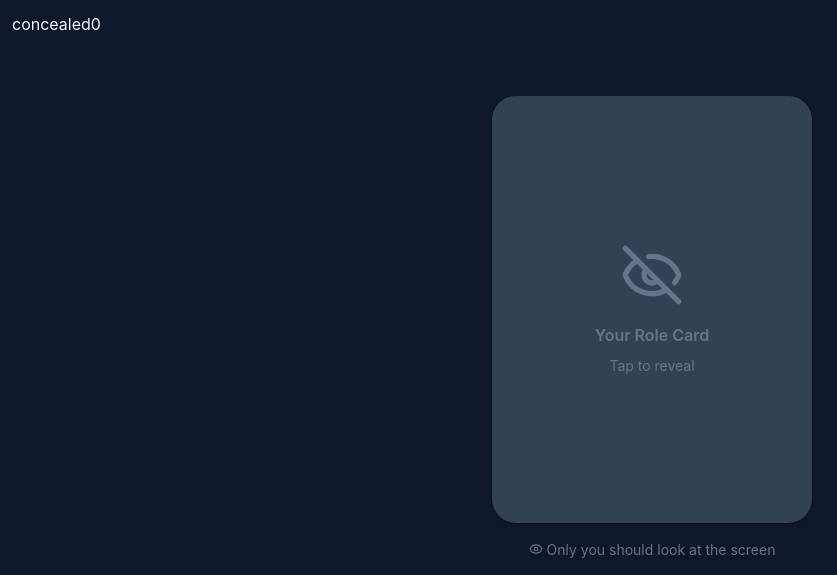
Test: RoleCard tap flow › ignores a quick second tap right after the reveal
Later steps or results of the test are not shown.
Click the button "Your Role Card Tap to reveal": (652, 309) [492,96,812,523]
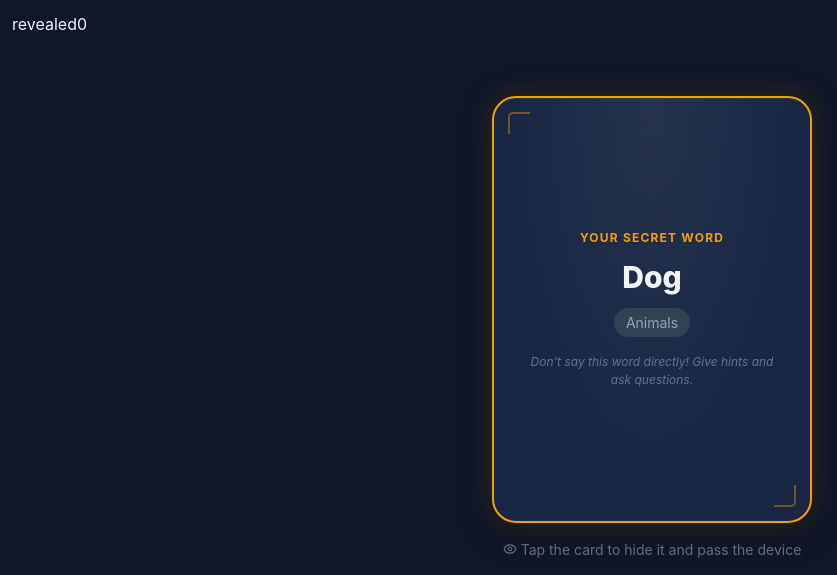
// Double-tap: the second tap lands within the guard window and is ignored
Click the button with aria-label "hide": (652, 309) [492,96,812,523]
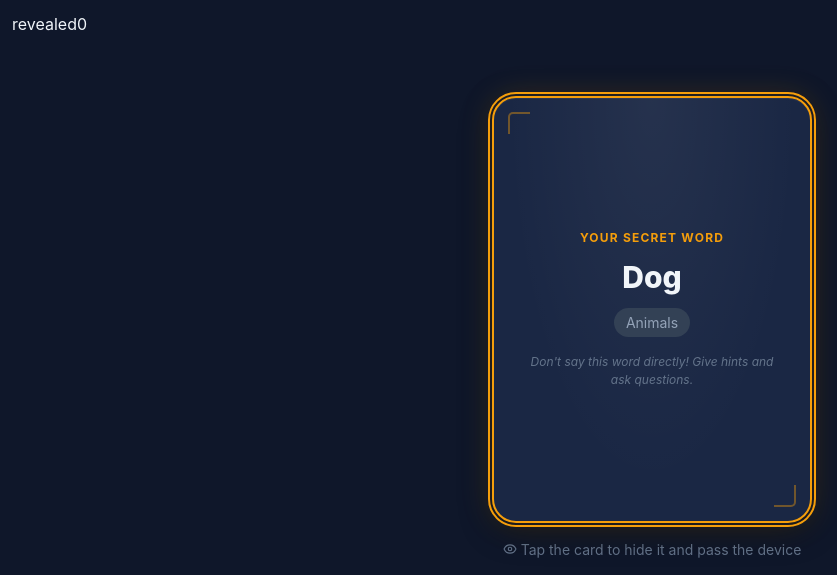
Expected: the text with test id "phase" reads "revealed", [12,14,77,34]
